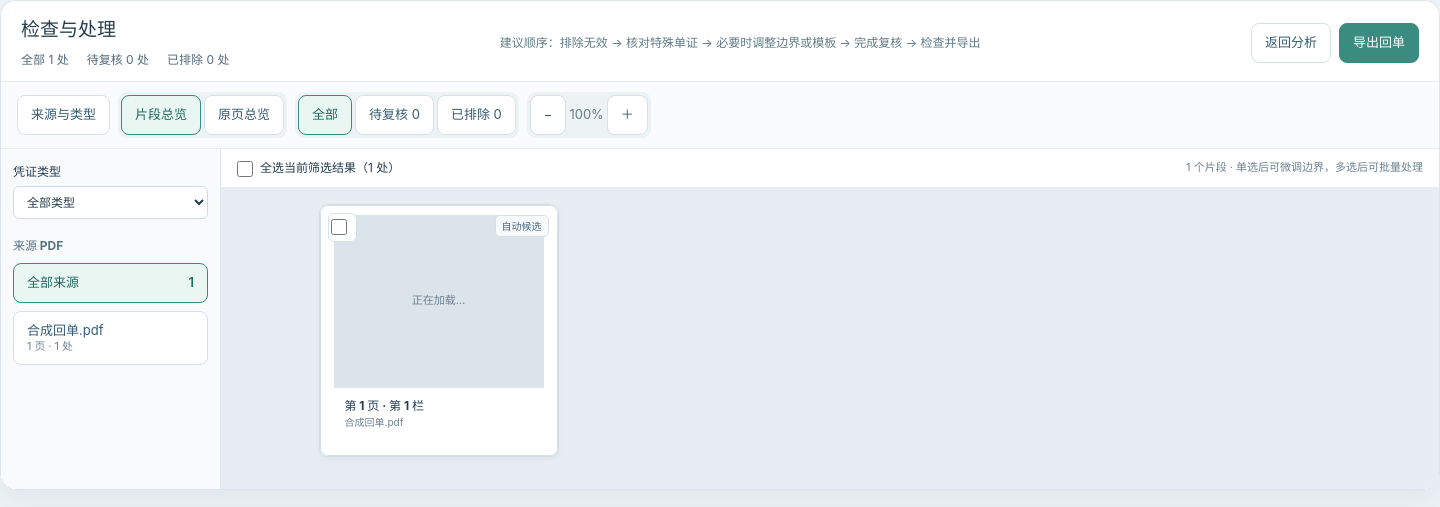
Test: 分割审核与交易对手分组的阶段衔接 › 全排除无分组入口；未启用分组仍从审核直接导出
The image size is (1440, 507).
Click the button "导出回单".
click(1379, 43)  # box [1339,23,1419,63]
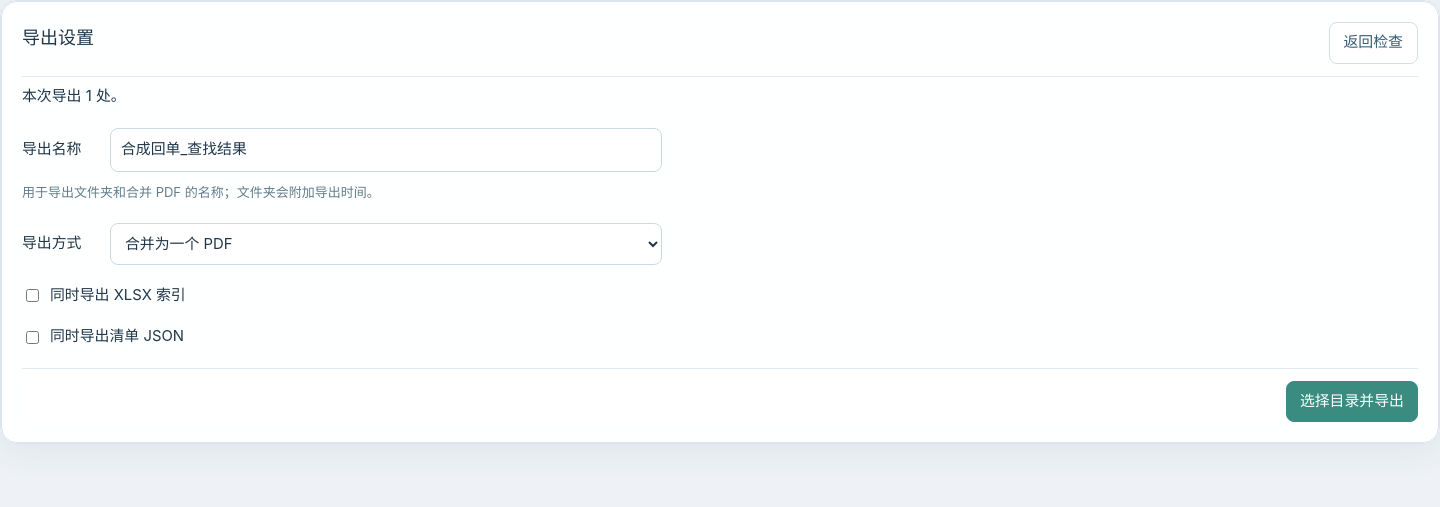
Expected: the element "导出设置" is shown
